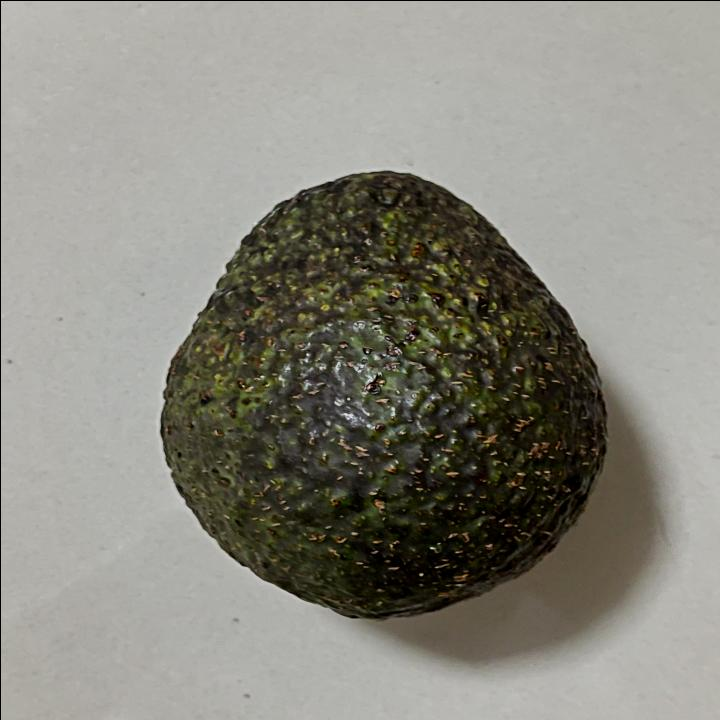Level1: (136, 153, 618, 631)
